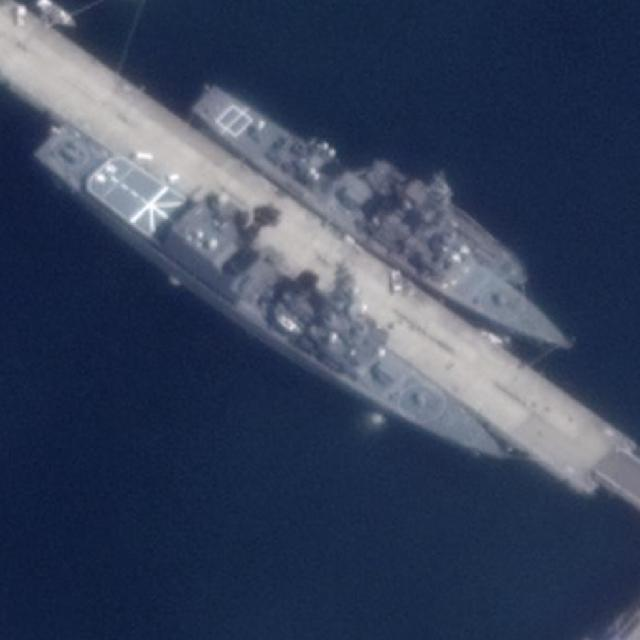Destroyer: (30, 111, 514, 489), (182, 70, 580, 381)
